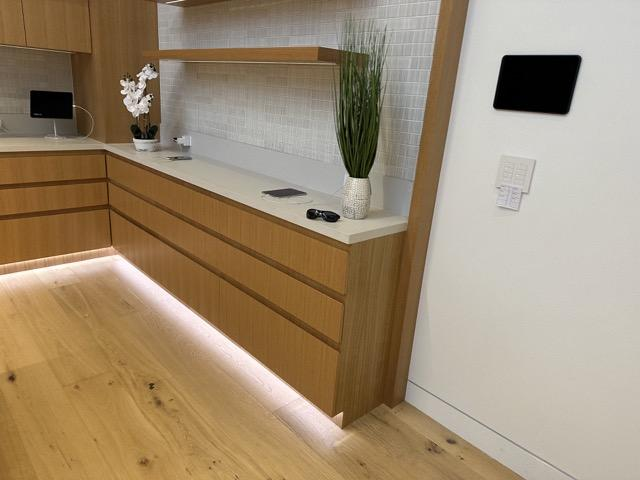Sunglasses: (306, 208, 341, 224)
